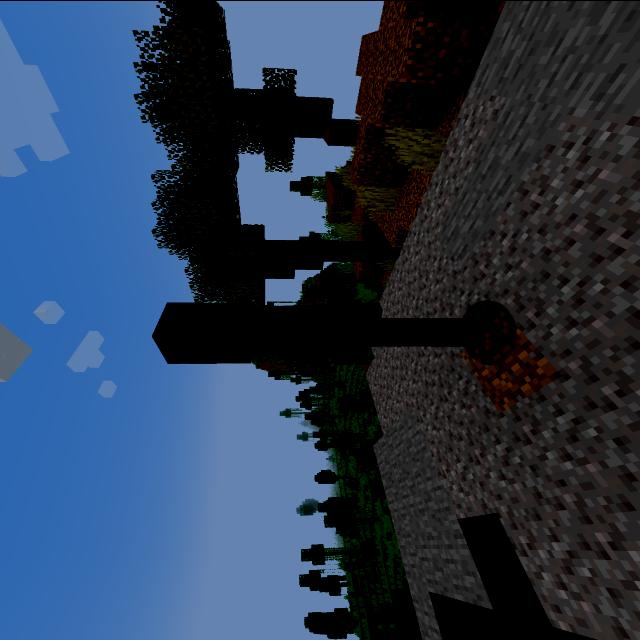Wither Skeleton: (142, 286, 510, 378)
